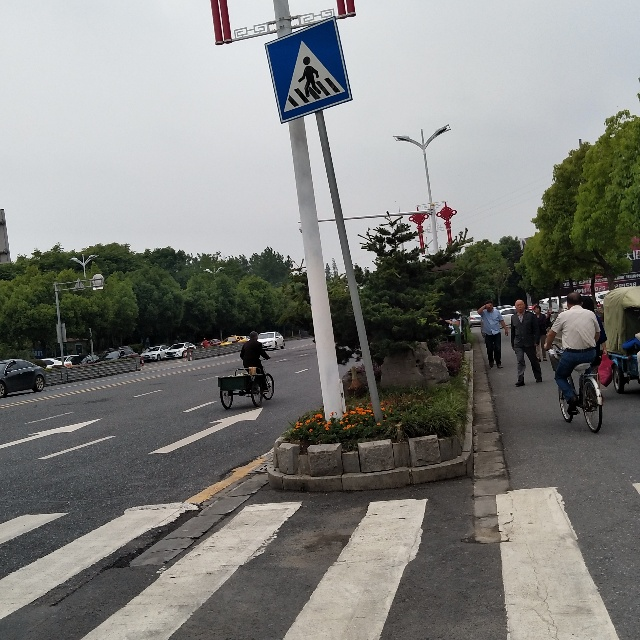crosswalk: (271, 37, 346, 110)
